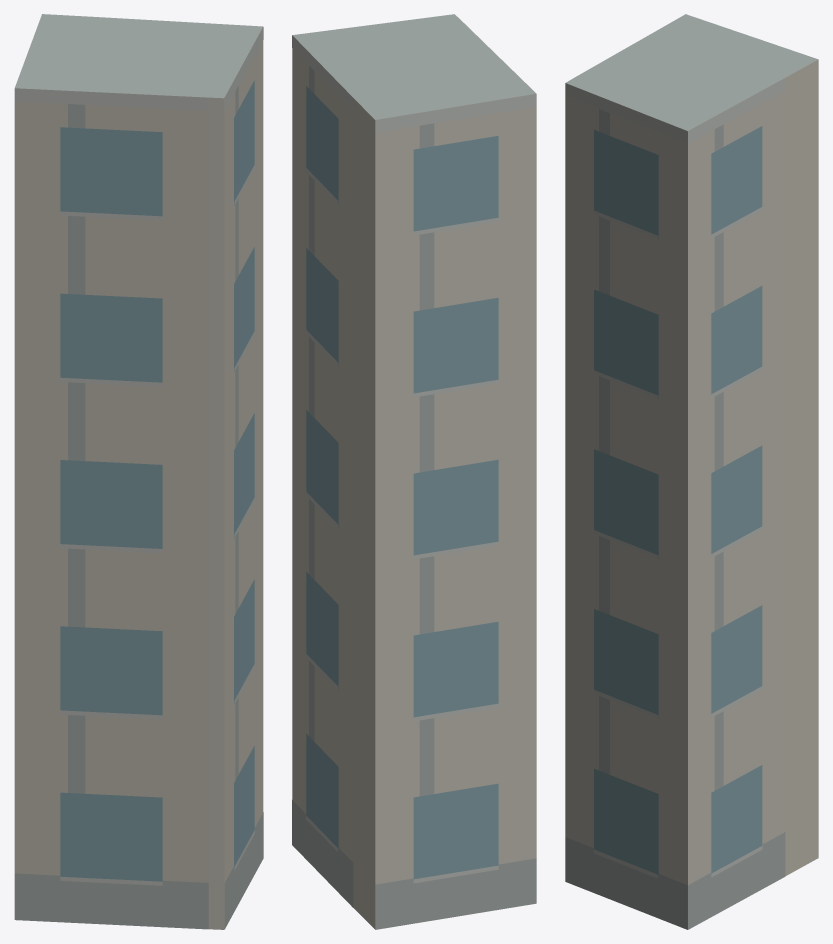
Rendered from survey-upis-32744373.glb.
3 renders of one model, left to right at view 1: azimuth 30°, elevation 25°; view 2: azimuth 150°, elevation 25°; view 3: azimuth 270°, elevation 25°, orthographic. The views are drawn at different scales.
Parts seen in each view (by area): view 1: survey-upis-32744373.tmp; view 2: survey-upis-32744373.tmp; view 3: survey-upis-32744373.tmp.
Part boxes in pixels (box(x1,y1,x2,y2)): survey-upis-32744373.tmp: box(14, 14, 263, 929); survey-upis-32744373.tmp: box(292, 14, 536, 929); survey-upis-32744373.tmp: box(565, 14, 818, 929).
Size of the model in its own units: 4.8 by 15.25 by 4.39.
